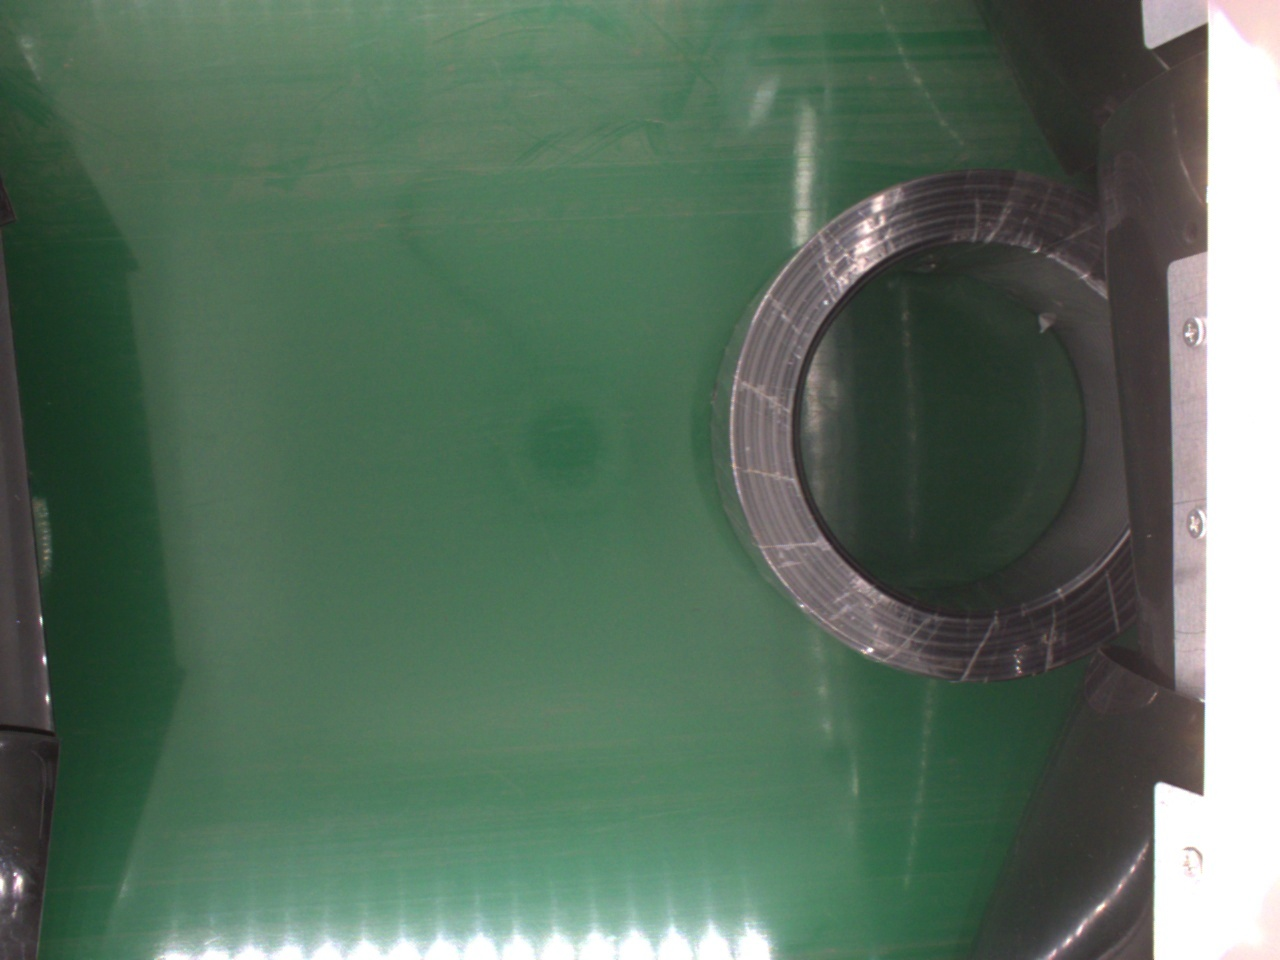black: (715, 172, 1154, 683)
